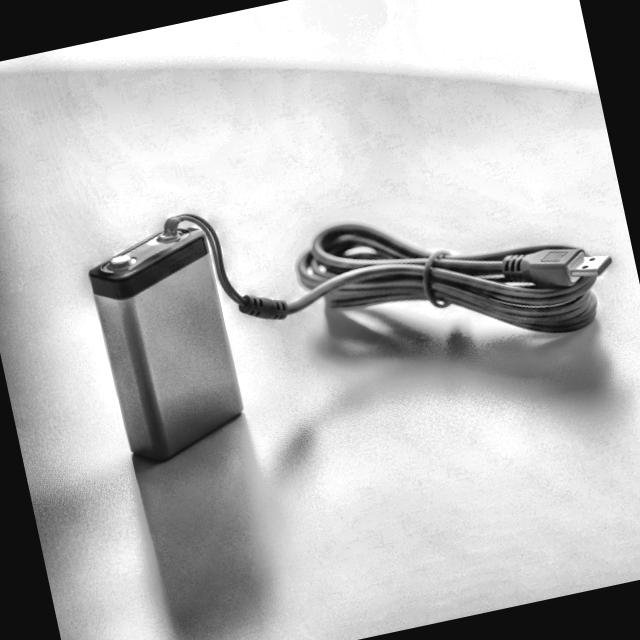Battery: (85, 218, 253, 469)
Cable: (160, 118, 628, 408)
